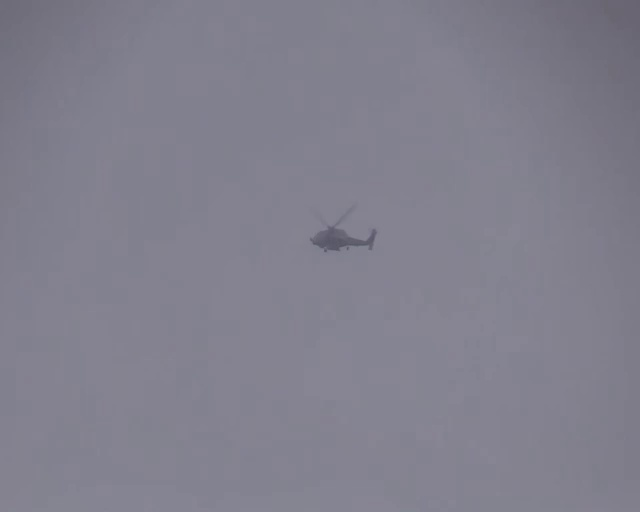HELICOPTER: (307, 200, 377, 253)
